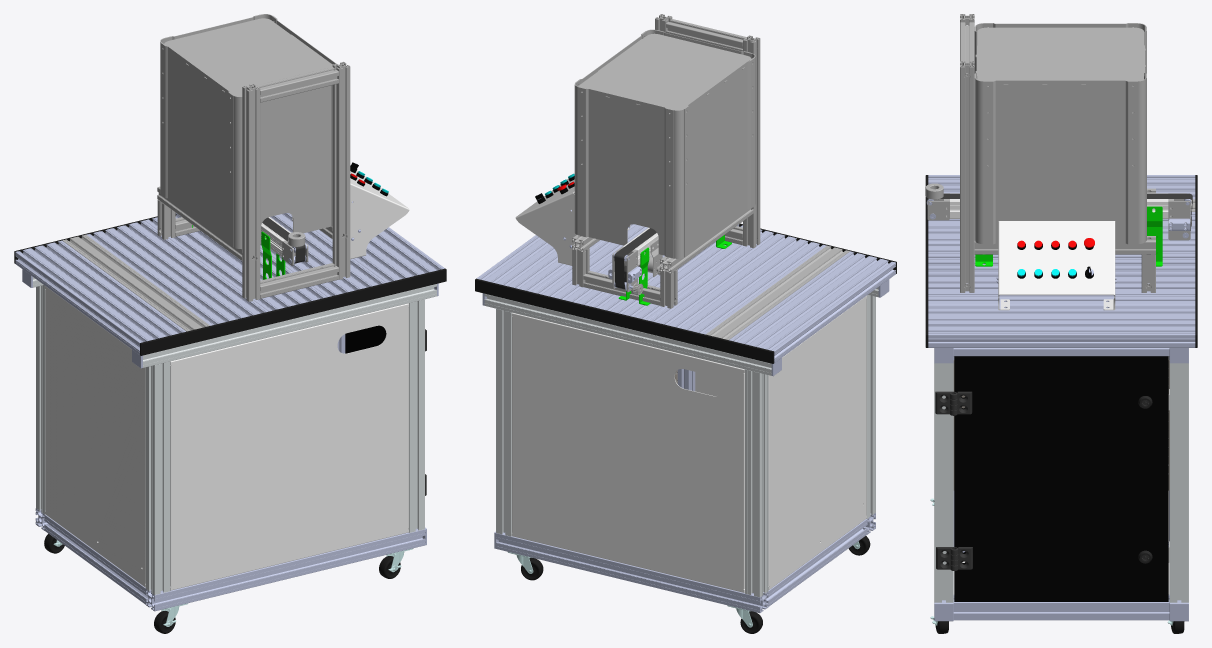
3 renders of one model, left to right at view 1: azimuth 30°, elevation 25°; view 2: azimuth 150°, elevation 25°; view 3: azimuth 270°, elevation 25°, orthographic. The views are drawn at different scales.
Parts seen in each view (by area): view 1: inst_1829388, inst_1829402, inst_1828955, inst_1828956, inst_1829426, inst_1829427, inst_1828961, inst_1829384, inst_1829378, inst_1828939, inst_1828940, inst_1829377 (+19 smaller); view 2: inst_1829389, inst_1829402, inst_1828962, inst_1828955, inst_1828961, inst_1829426, inst_1829427, inst_1829385, inst_1829380, inst_1829381, inst_1829386, inst_1829428 (+21 smaller); view 3: inst_1829404, inst_1828951, inst_1829430, inst_1828961, inst_1828905, inst_1829429, inst_1829386, inst_1829383, inst_1829382, inst_1828940, inst_1829428, inst_1829379 (+19 smaller).
Boxes of the visible parts, left/top/right/bottom form: inst_1829388: left=170, top=303, right=408, bottom=590; inst_1829402: left=45, top=286, right=145, bottom=587; inst_1828955: left=160, top=43, right=233, bottom=247; inst_1828956: left=260, top=85, right=332, bottom=243; inst_1829426: left=15, top=240, right=185, bottom=354; inst_1829427: left=86, top=220, right=268, bottom=325; inst_1828961: left=164, top=18, right=332, bottom=96; inst_1829384: left=145, top=361, right=170, bottom=594; inst_1829378: left=145, top=528, right=425, bottom=611; inst_1828939: left=242, top=84, right=260, bottom=301; inst_1828940: left=332, top=61, right=350, bottom=279; inst_1829377: left=143, top=284, right=436, bottom=367; inst_1829389: left=511, top=312, right=744, bottom=592; inst_1829402: left=768, top=295, right=866, bottom=589; inst_1828962: left=578, top=87, right=673, bottom=258; inst_1828955: left=684, top=57, right=754, bottom=257; inst_1828961: left=578, top=33, right=751, bottom=110; inst_1829426: left=729, top=251, right=895, bottom=362; inst_1829427: left=649, top=232, right=826, bottom=334; inst_1829385: left=745, top=369, right=768, bottom=597; inst_1829380: left=496, top=532, right=768, bottom=613; inst_1829381: left=484, top=293, right=771, bottom=375; inst_1829386: left=496, top=308, right=511, bottom=536; inst_1829428: left=591, top=224, right=769, bottom=320; inst_1829404: left=954, top=356, right=1168, bottom=601; inst_1828951: left=983, top=80, right=1137, bottom=244; inst_1829430: left=928, top=304, right=1195, bottom=347; inst_1828961: left=977, top=27, right=1143, bottom=81; inst_1828905: left=998, top=221, right=1115, bottom=310; inst_1829429: left=928, top=273, right=1195, bottom=304; inst_1829386: left=1169, top=363, right=1188, bottom=602; inst_1829383: left=953, top=594, right=1169, bottom=620; inst_1829382: left=934, top=363, right=953, bottom=602; inst_1828940: left=960, top=61, right=974, bottom=292; inst_1829428: left=928, top=242, right=1195, bottom=273; inst_1829379: left=953, top=348, right=1169, bottom=356.
Size of the model in its own units: 0.78 by 1.25 by 0.5609.
